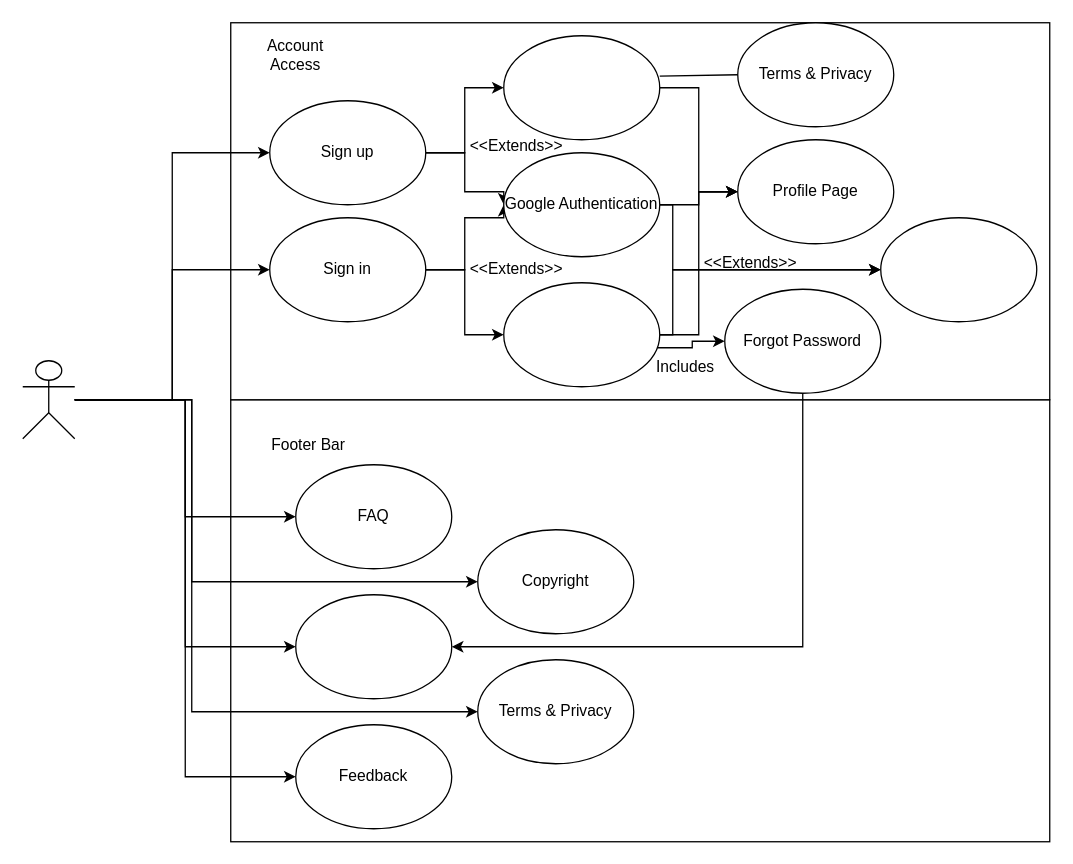
This 1073x864 diagram has some shape labels left out. Each missing label, with the centre of its shape:
Admin Page: the point at 958,269
Contact Us: the point at 373,646
Local Account Creation: the point at 581,87
Local Authentication: the point at 581,334
User: the point at 48,399
